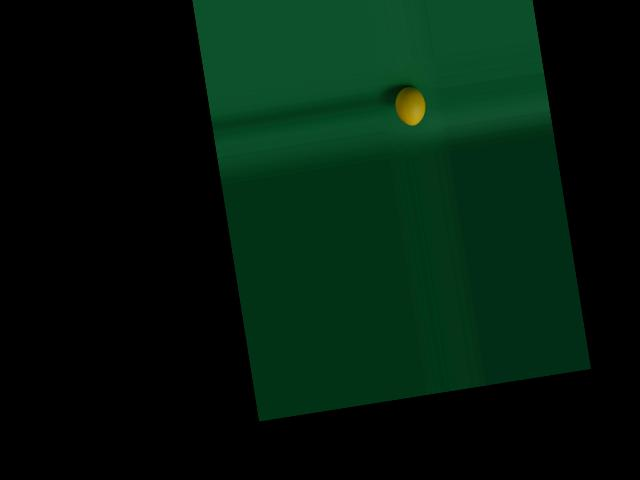egg: (393, 84, 429, 127)
